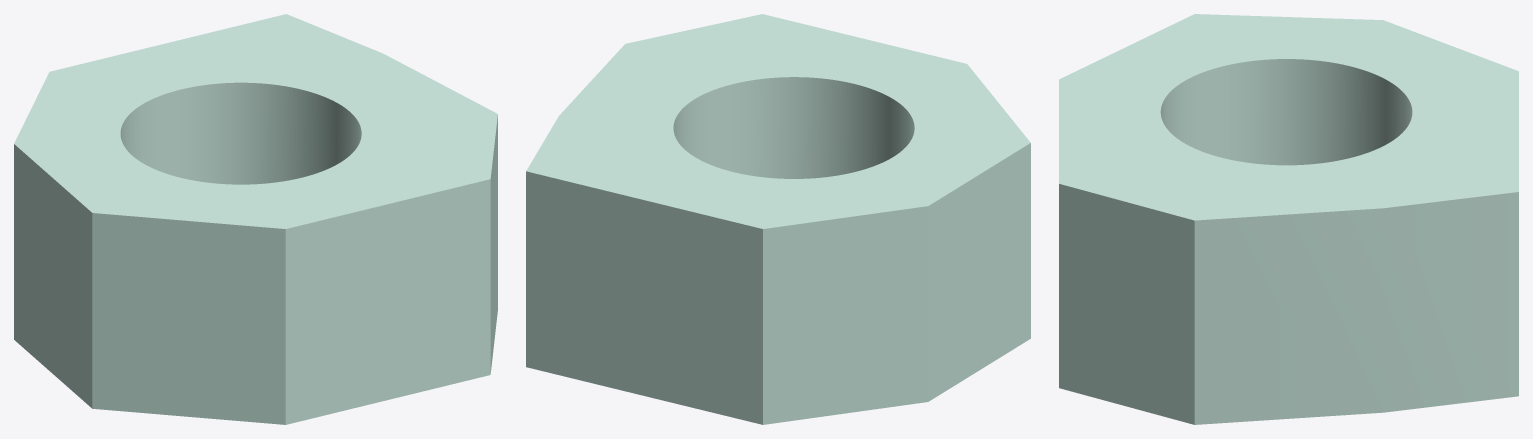
The picture shows the model from 3 angles, left to right: view 1: azimuth 30°, elevation 25°; view 2: azimuth 150°, elevation 25°; view 3: azimuth 270°, elevation 25°; orthographic projection. The views are drawn at different scales.
Parts seen in each view (by area): view 1: Renderer Node; view 2: Renderer Node; view 3: Renderer Node.
Boxes of the visible parts, x1,y1,x2,y2 form: Renderer Node: [14, 14, 497, 424]; Renderer Node: [526, 14, 1030, 424]; Renderer Node: [1059, 14, 1518, 424].
Size of the model in its own units: 0.4402 by 0.2031 by 0.4141.
